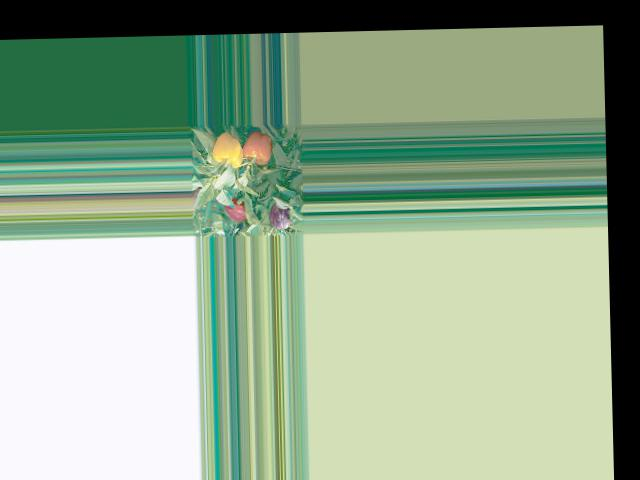bell_pepper: (211, 133, 250, 169)
